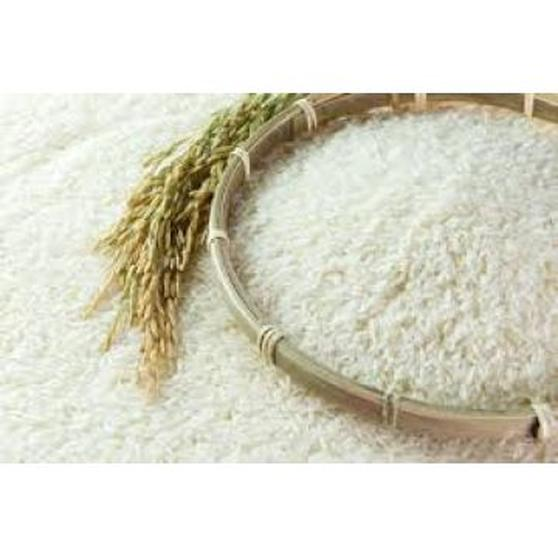rice: (215, 105, 558, 435)
